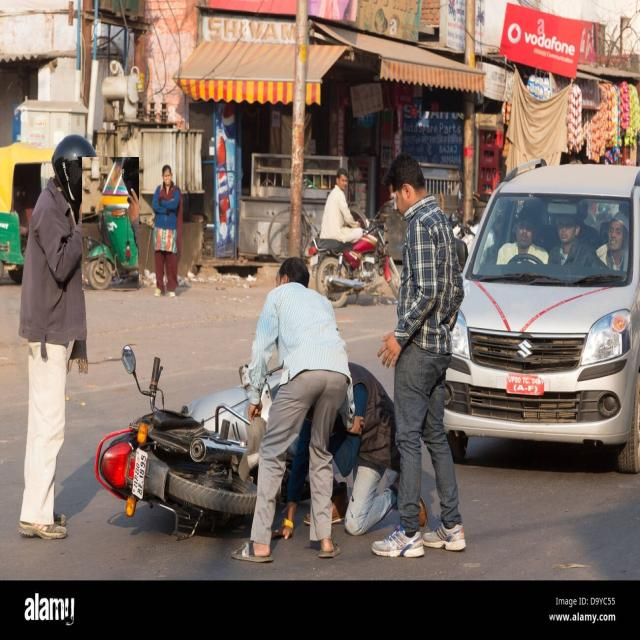accident: (95, 345, 256, 536)
autorickshaw: (82, 158, 139, 290)
car: (444, 161, 640, 472)
motorcycle: (309, 167, 400, 308)
